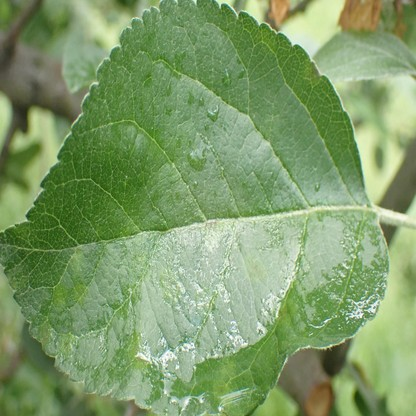scab: (214, 361, 236, 403), (128, 332, 147, 371), (204, 221, 228, 245), (245, 255, 264, 280), (161, 272, 178, 297), (58, 335, 73, 358), (53, 282, 64, 313), (69, 251, 83, 274), (308, 60, 319, 86), (74, 285, 88, 303), (39, 323, 49, 346)
